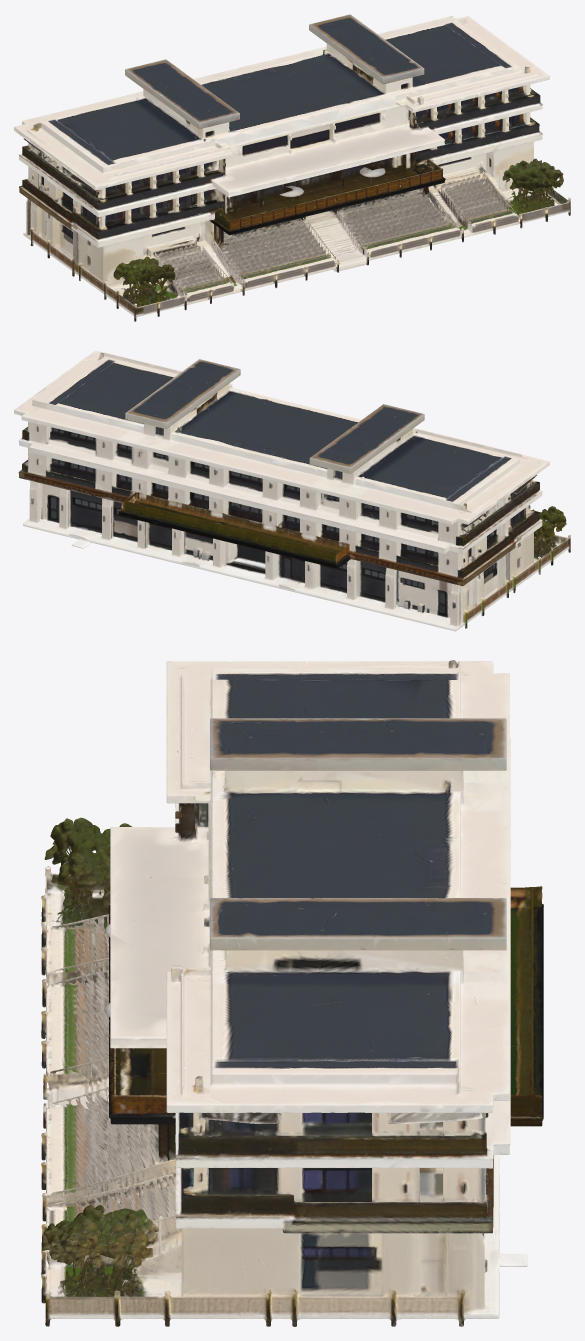
Rendered from clubhouse-mesh.glb.
3 renders of one model, top to bottom at view 1: azimuth 30°, elevation 25°; view 2: azimuth 150°, elevation 25°; view 3: azimuth 270°, elevation 25°, orthographic. The views are drawn at different scales.
Size of the model in its own units: 1.9 by 0.5716 by 0.9104.
1 material, 1 textured.
